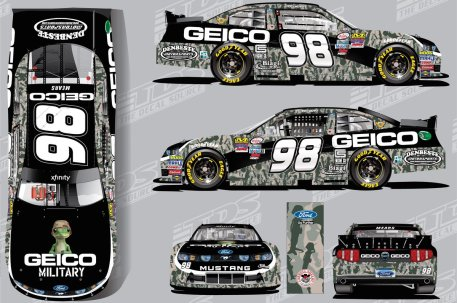Geico: (330, 130, 419, 150), (185, 27, 272, 44), (23, 252, 98, 268)
